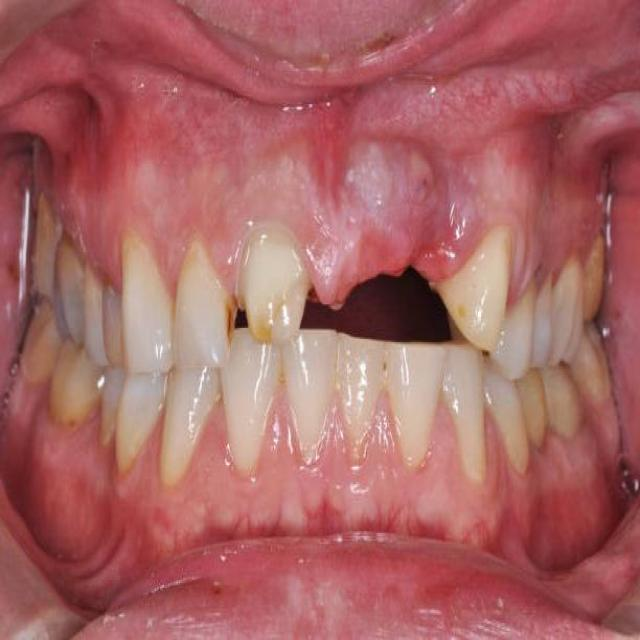Gingivitis: (201, 496, 462, 541), (527, 468, 608, 552), (403, 158, 455, 254), (303, 107, 358, 186)
